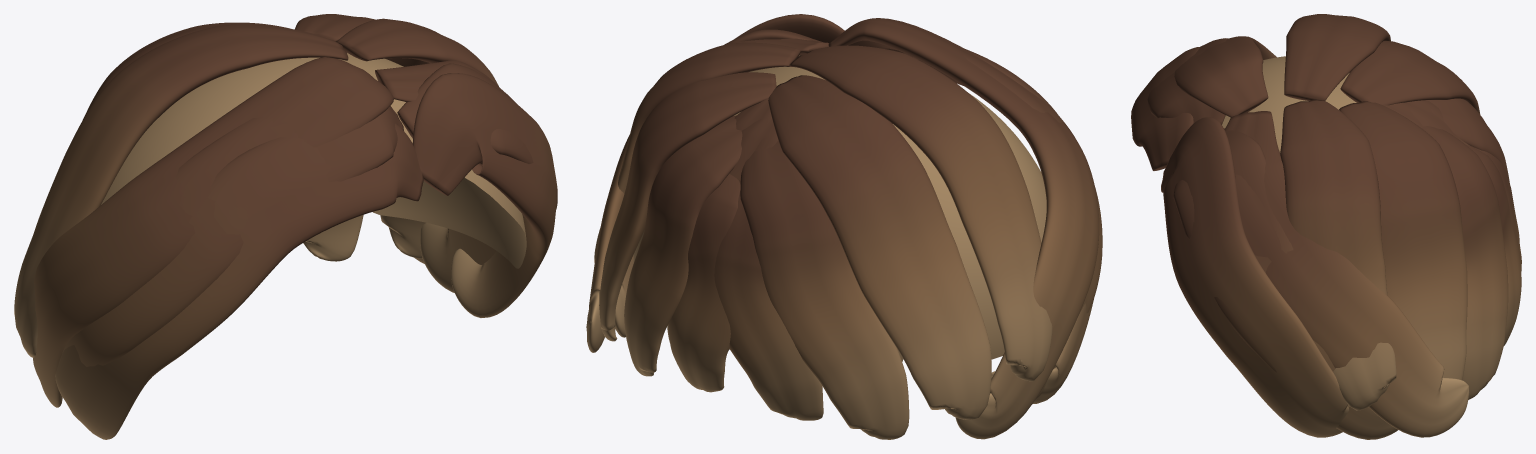
The model's file is Masculine-flow-ears261-hair-ombre.glb.
The picture shows the model from 3 angles, left to right: view 1: azimuth 30°, elevation 25°; view 2: azimuth 150°, elevation 25°; view 3: azimuth 270°, elevation 25°; orthographic projection. The views are drawn at different scales.
Visible parts, largest first — view 1: 226 hair / Hair260 / layered flow; view 2: 226 hair / Hair260 / layered flow; view 3: 226 hair / Hair260 / layered flow.
Part boxes in pixels (x1,y1,x2,y2): 226 hair / Hair260 / layered flow: [14, 14, 557, 439]; 226 hair / Hair260 / layered flow: [586, 14, 1102, 439]; 226 hair / Hair260 / layered flow: [1131, 14, 1521, 439].
Bounding box in the file's own units: 1.12 × 0.7722 × 0.87.
